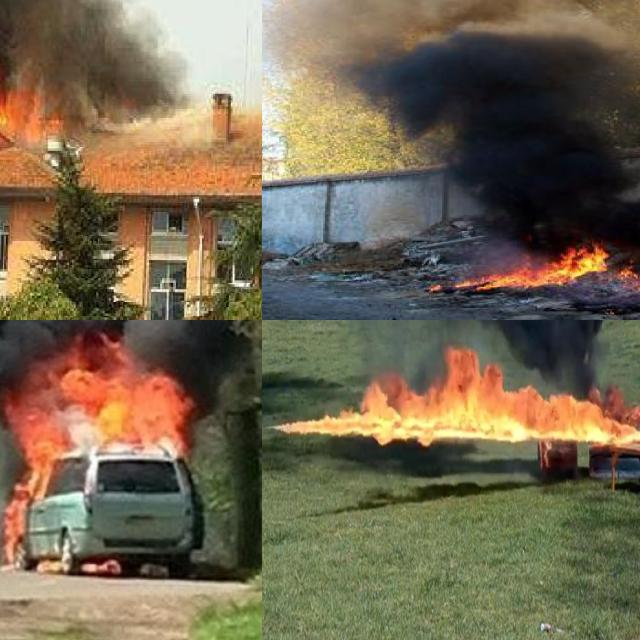fire: (269, 353, 640, 488), (0, 335, 196, 577), (444, 241, 640, 297), (0, 20, 60, 152)
smoke: (262, 0, 640, 249), (266, 320, 603, 392), (0, 320, 257, 394)
